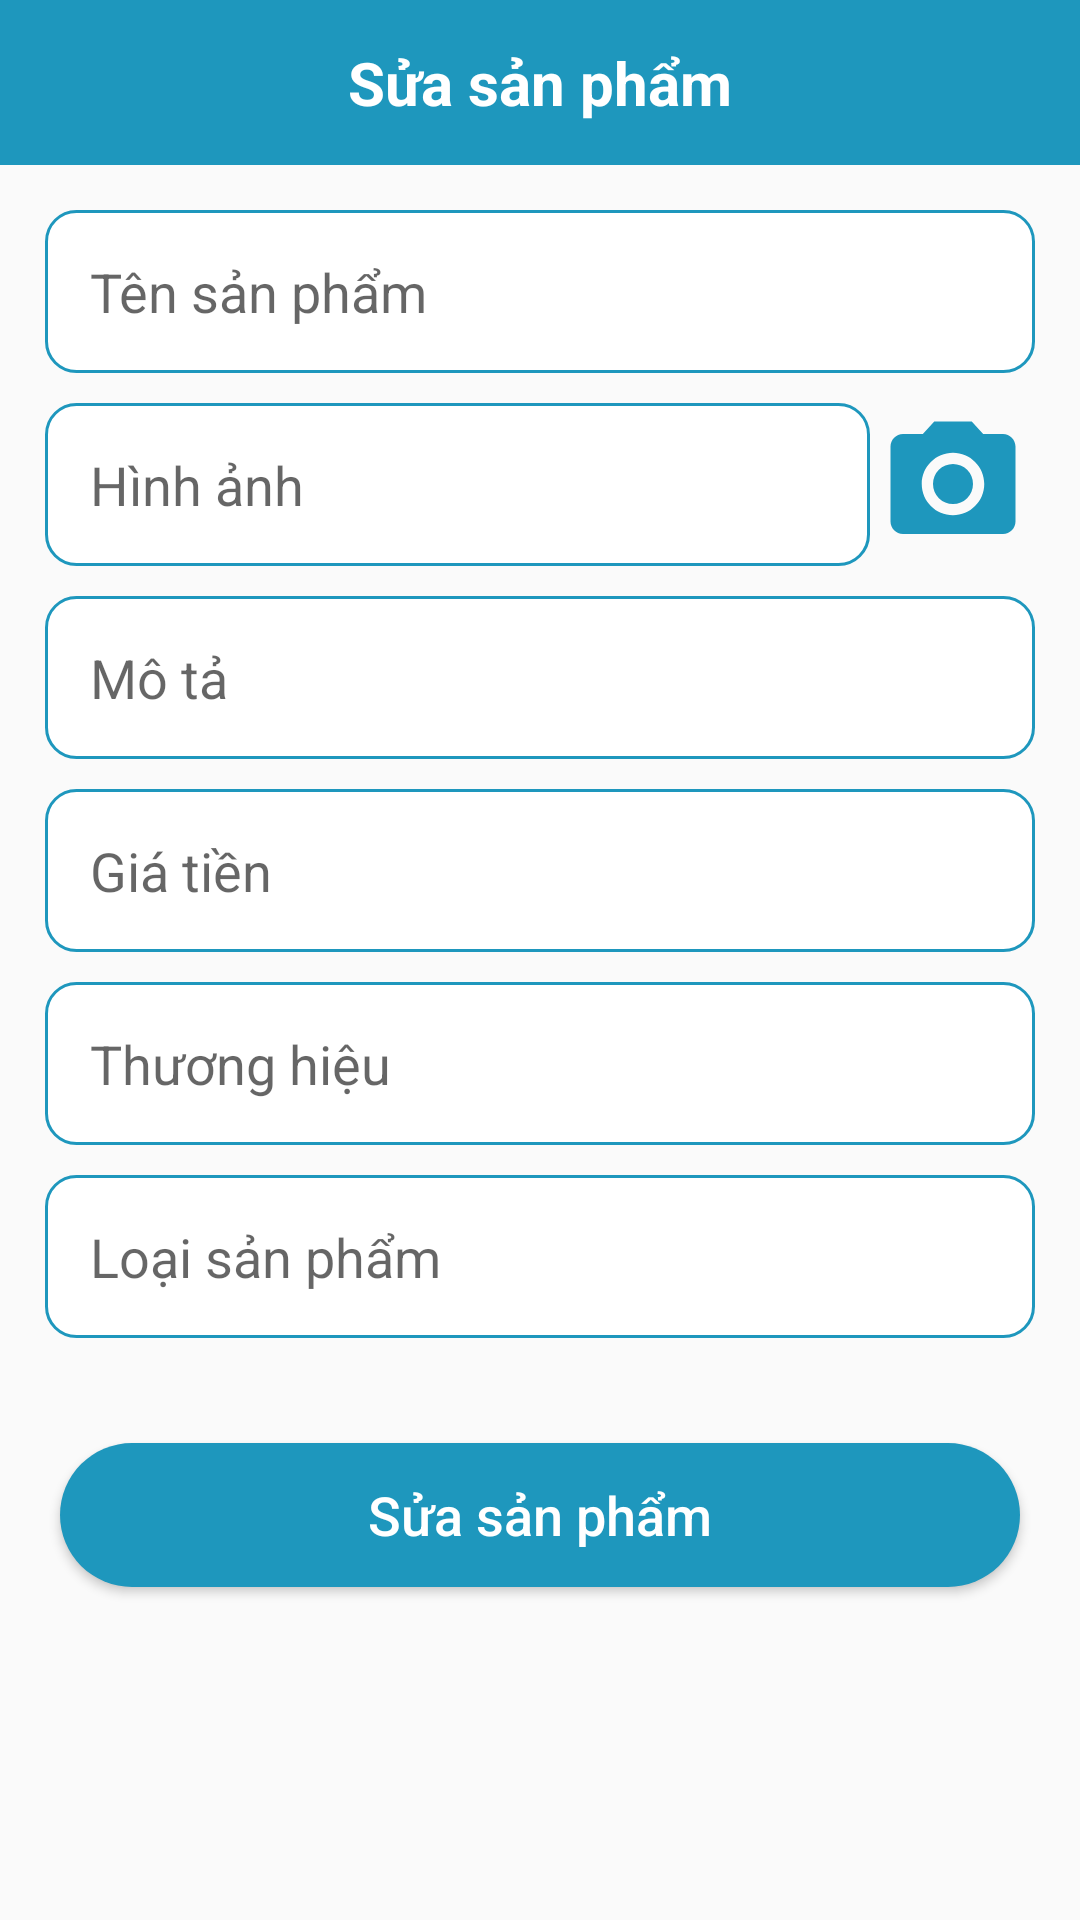

Point at icon controls on the screen. Image size 1080 × 1920, points as [x,y].
camera: [953,477]
